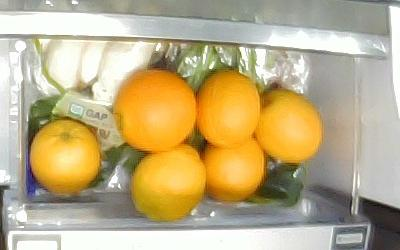orange: (114, 68, 196, 152), (130, 144, 206, 220), (28, 118, 102, 194), (198, 70, 261, 147), (257, 90, 323, 162), (199, 137, 263, 201)
